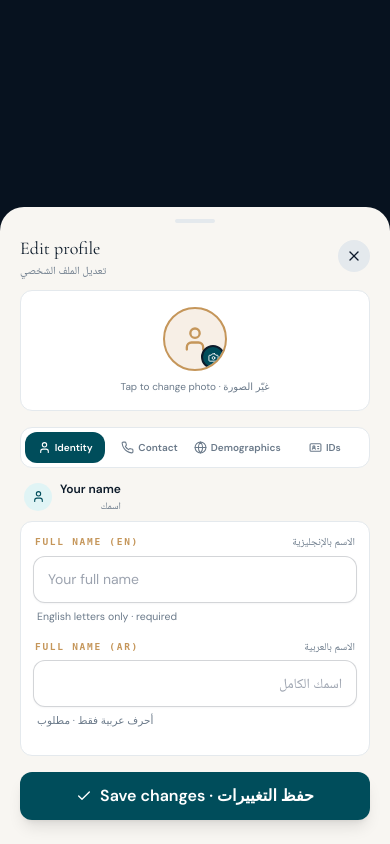
Scenario: ProfileEditSheet · name validation › rejects Latin characters in the Arabic name field
Expected: the field with placeholder "Your full name" is shown, [33,556,357,603]
Type "Mohammed" into the field with placeholder "اسمك الكامل" at {"x": 195, "y": 684}, box [33,660,357,707]
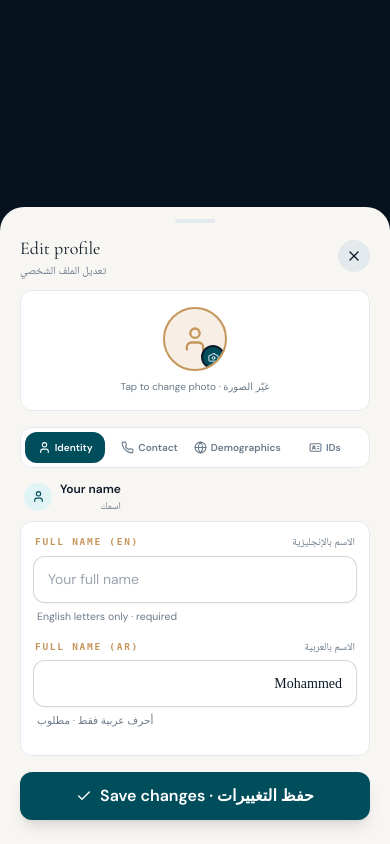
Leave the field with placeholder "اسمك الكامل", box [33,660,357,707]
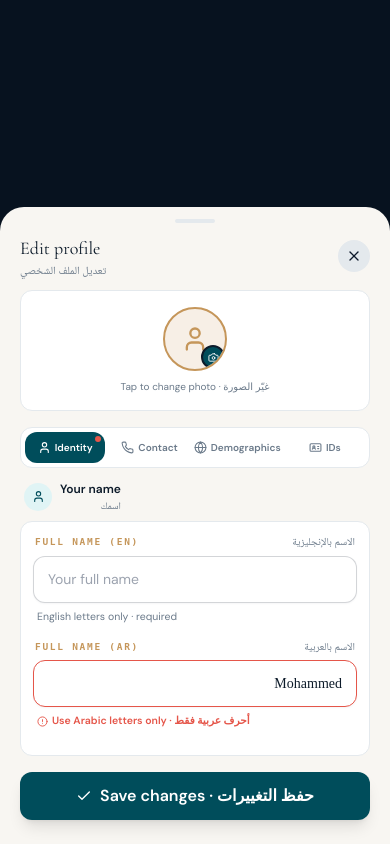
Expected: the text "Use Arabic letters only · أحرف عربية فقط" is shown, [37,714,250,727]
